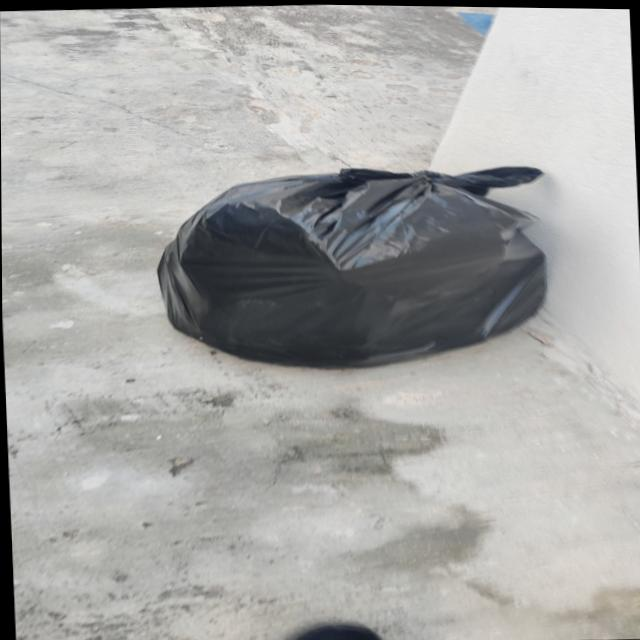Mixed Waste -Black Bags-: (167, 168, 552, 374)
